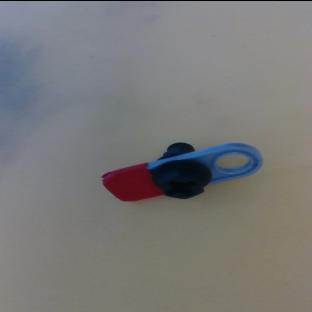part_1_good: (100, 116, 267, 224)
